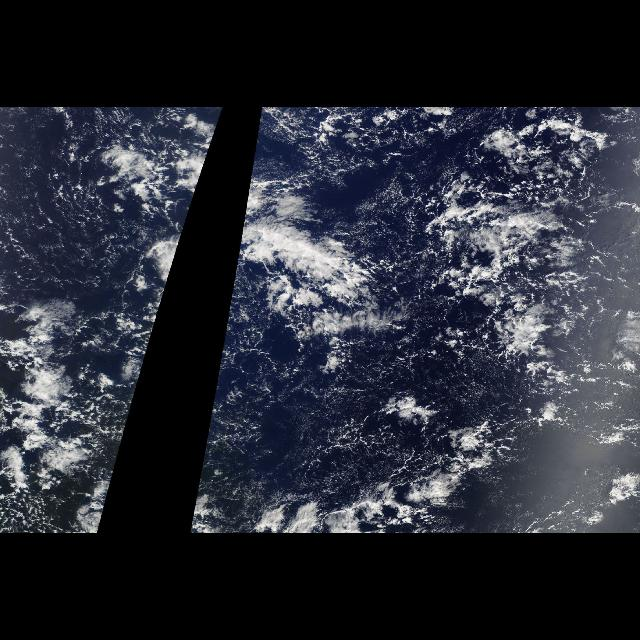Gravel: (198, 109, 638, 485), (5, 108, 175, 484), (262, 109, 374, 183)
Sugar: (5, 138, 120, 292), (316, 135, 428, 253)
